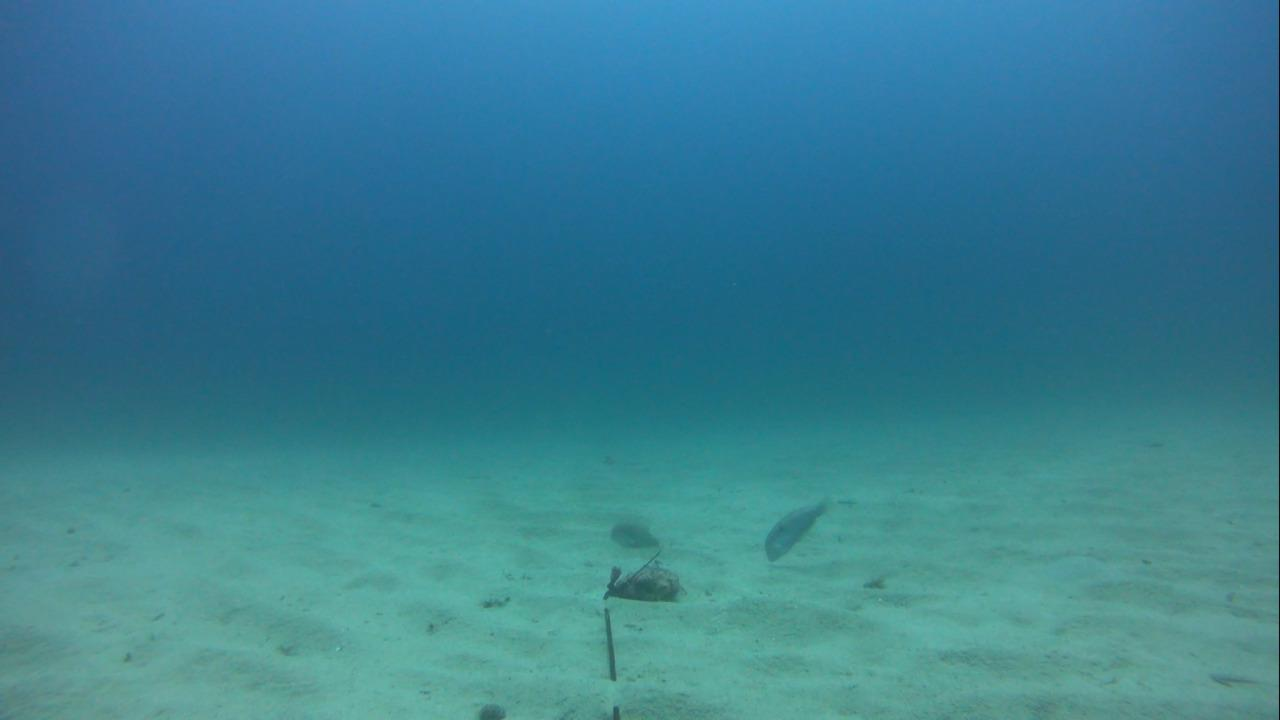raor: (758, 493, 829, 567), (599, 512, 667, 551)
